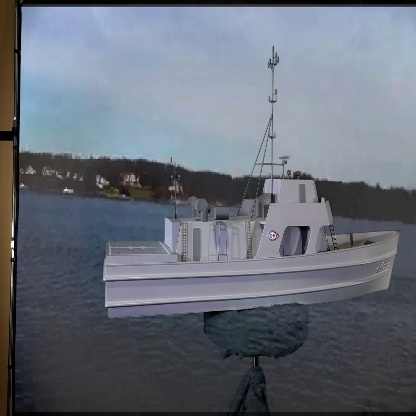YP689: (101, 46, 400, 322)
